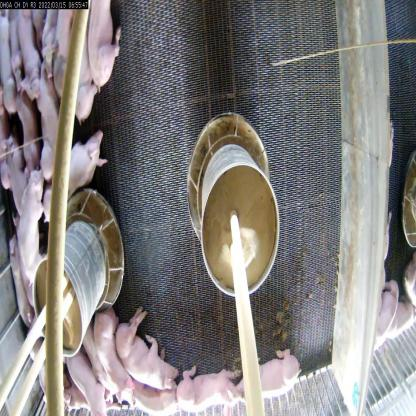Pig: (117, 305, 182, 395), (15, 164, 51, 296), (93, 312, 134, 402), (176, 358, 242, 409), (66, 351, 112, 415), (18, 7, 42, 106), (37, 78, 59, 173), (70, 124, 102, 182)
